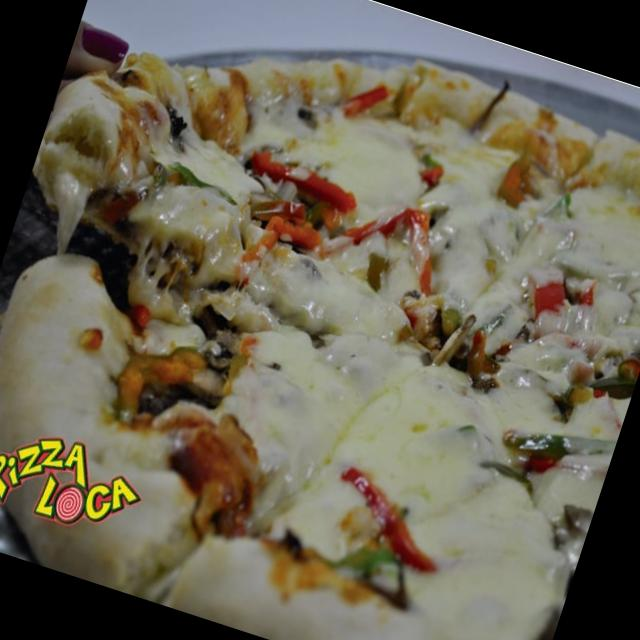peppers: (320, 456, 464, 578), (153, 405, 270, 538), (346, 192, 461, 300), (237, 137, 374, 227), (229, 196, 331, 312), (118, 346, 228, 434), (502, 408, 616, 482), (460, 320, 512, 387), (576, 359, 638, 415), (490, 154, 544, 218), (339, 74, 391, 128), (522, 266, 568, 320), (120, 298, 166, 342)
pizza: (0, 51, 640, 640)
